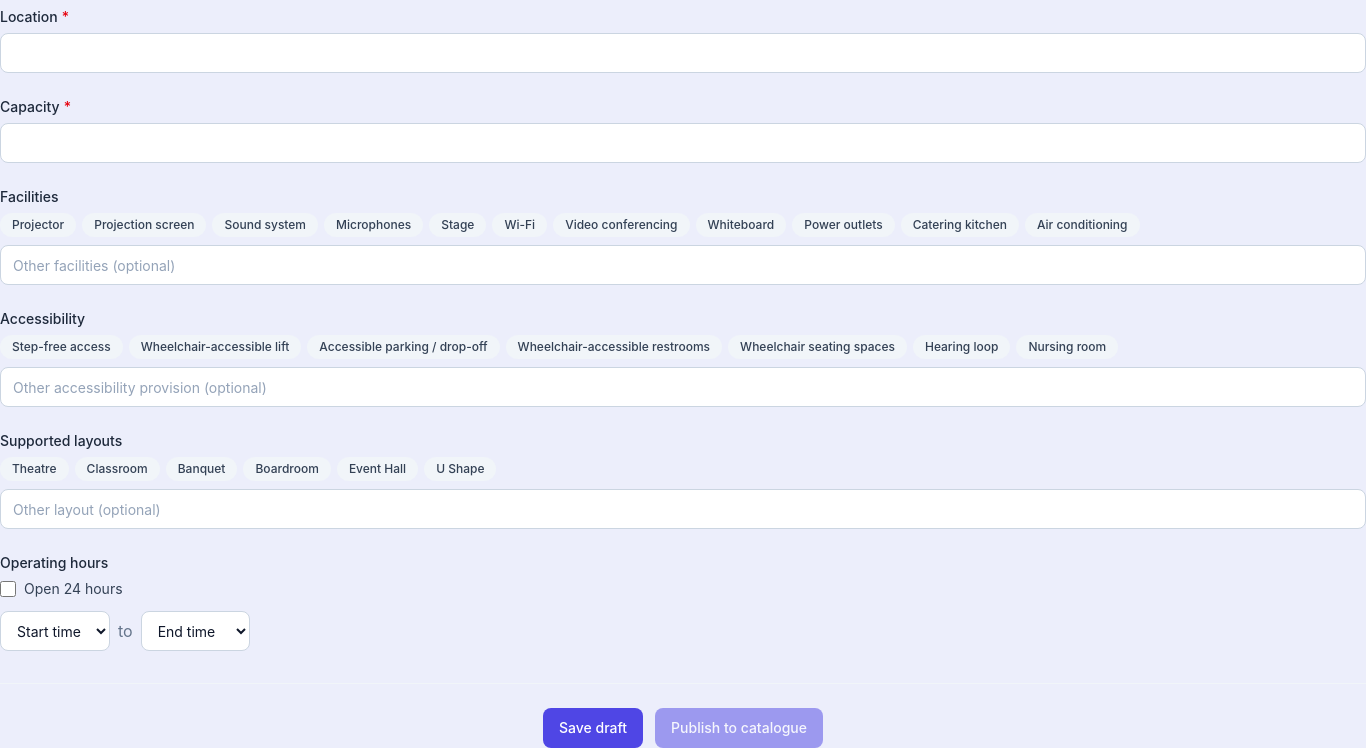
Test: US-13: adding a venue › AC-2: saves an empty form as a draft
This screenshot has width=1366, height=748.
(page scrolled)
Click the button "Save draft" at {"x": 593, "y": 728}, box [543,708,643,747]
(page scrolled)
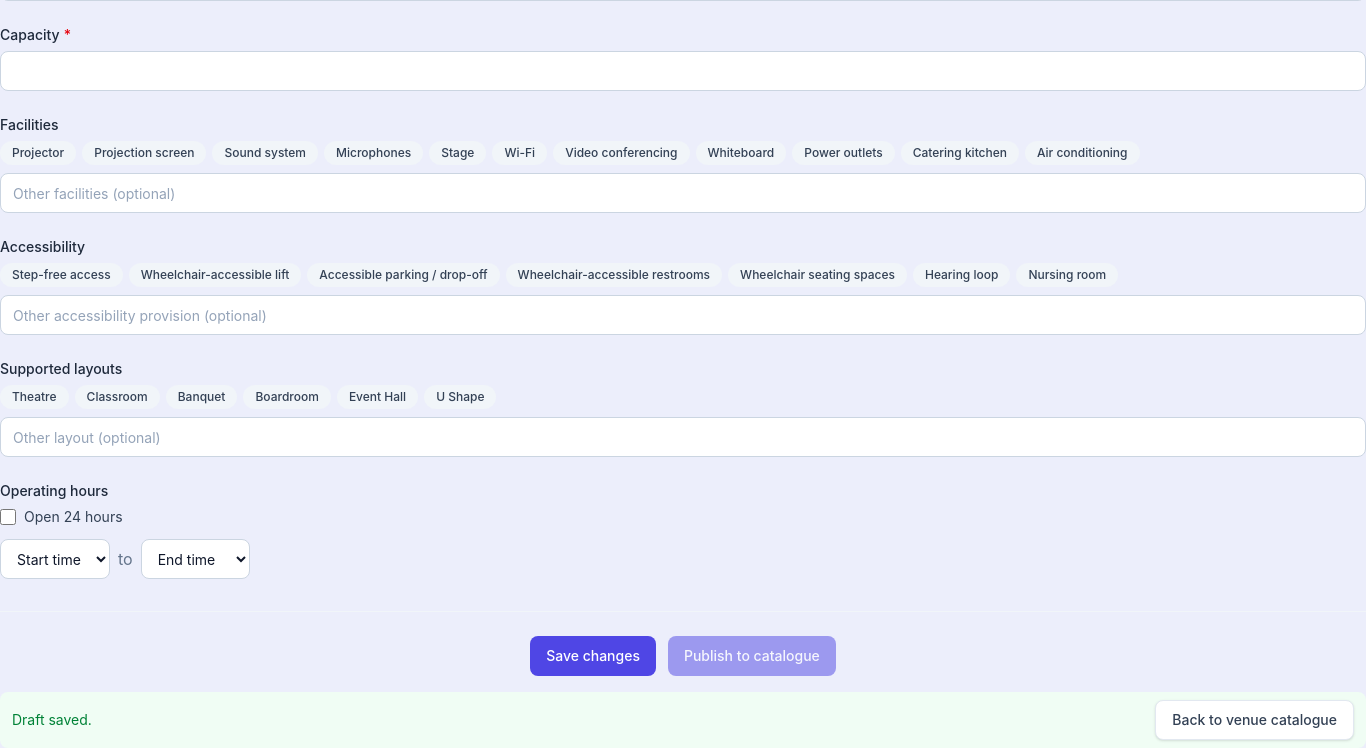
Result: the message reads "Draft saved." at [12,711,92,728]
